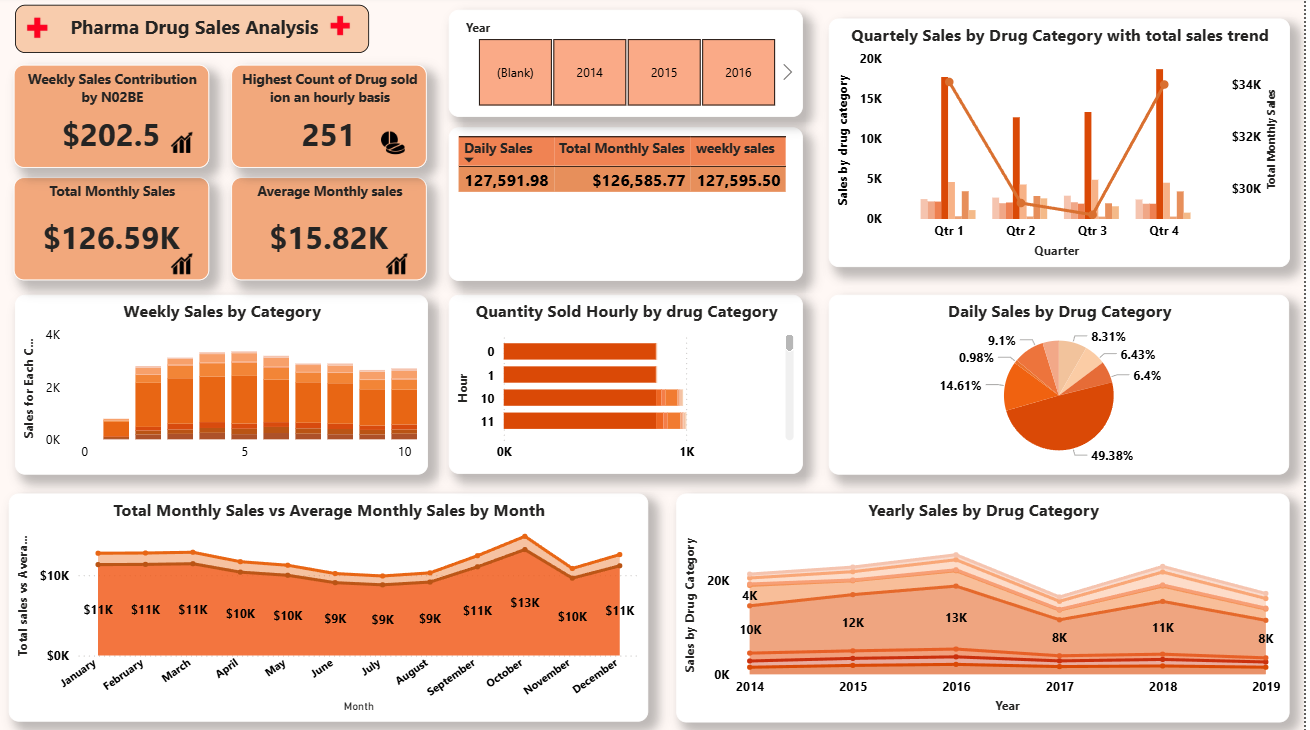

What the dashboard file says about the page in this screenshot:
{"tool":"powerbi","page":{"name":"Dashboard","canvas":[1280,720],"ordinal":0},"visuals":[{"type":"textbox","box":[19.2,9,346.2,47.4],"z":0},{"type":"columnChart","title":"Weekly Sales by Category","fields":{"Category":["Sales Weekly.Week Num"],"Y":["Sum(Sales Weekly.M01AB)","Sum(Sales Weekly.M01AE)","Sum(Sales Weekly.N02BA)","Sum(Sales Weekly.N02BE)","Sum(Sales Weekly.N05B)","Sum(Sales Weekly.N05C)","Sum(Sales Weekly.R03)","Sum(Sales Weekly.R06)"]},"box":[19.2,292.3,403.8,175.6],"z":1000},{"type":"stackedAreaChart","title":"Total Monthly Sales vs Average Monthly Sales by Month","fields":{"Category":["Sales Monthly.Date.Variation.Date Hierarchy.Month"],"Y":["Sales Monthly.Total Monthly Sales","Sales Monthly.Average Monthly Sales"]},"box":[13.7,486.3,625.5,223.5],"z":2000},{"type":"barChart","title":"Quantity Sold Hourly by drug Category","fields":{"Category":["Sales Hourly.Hour"],"Y":["CountNonNull(Sales Hourly.M01AB)","Count(Sales Hourly.M01AE)","Count(Sales Hourly.N02BA)","Count(Sales Hourly.N02BE)","Count(Sales Hourly.N05B)","Count(Sales Hourly.N05C)","Count(Sales Hourly.R03)","Count(Sales Hourly.R06)"]},"box":[443.3,292.2,346.7,175.6],"z":3000},{"type":"pieChart","title":"Daily Sales by Drug Category","fields":{"Y":["Sum(Sales Daily.M01AB)","Sum(Sales Daily.M01AE)","Sum(Sales Daily.N02BA)","Sum(Sales Daily.N02BE)","Sum(Sales Daily.N05B)","Sum(Sales Daily.N05C)","Sum(Sales Daily.R03)","Sum(Sales Daily.R06)"]},"box":[815.7,292.8,450.6,175.9],"z":4000},{"type":"stackedAreaChart","title":"Yearly Sales by Drug Category","fields":{"Category":["Sales Monthly.Date.Variation.Date Hierarchy.Year"],"Y":["Sum(Sales Monthly.M01AB)","Sum(Sales Monthly.M01AE)","Sum(Sales Monthly.N02BA)","Sum(Sales Monthly.N02BE)","Sum(Sales Monthly.N05B)","Sum(Sales Monthly.N05C)","Sum(Sales Monthly.R03)","Sum(Sales Monthly.R06)"]},"box":[666.3,486.7,600,224.1],"z":5000},{"type":"lineClusteredColumnComboChart","title":"Quartely Sales by Drug Category with total sales trend","fields":{"Category":["Sales Monthly.Date.Variation.Date Hierarchy.Quarter"],"Y":["Sum(Sales Monthly.M01AB)","Sum(Sales Monthly.M01AE)","Sum(Sales Monthly.N02BA)","Sum(Sales Monthly.N02BE)","Sum(Sales Monthly.N05B)","Sum(Sales Monthly.N05C)","Sum(Sales Monthly.R03)","Sum(Sales Monthly.R06)"],"Y2":["Sales Monthly.Total Monthly Sales"]},"box":[815.6,22.2,451.1,243.3],"z":6000},{"type":"card","title":"Total Monthly Sales","fields":{"Values":["Sales Monthly.Total Monthly Sales"]},"box":[18.9,177.8,191.1,101.1],"z":7000},{"type":"card","title":"Average Monthly sales","fields":{"Values":["Sales Monthly.Average Monthly Sales"]},"box":[231.1,177.8,191.1,101.1],"z":8000},{"type":"card","title":"Highest Count of Drug sold ion an hourly basis","fields":{"Values":["Count(Sales Hourly.N02BE)"]},"box":[231.1,66.7,191.1,101.1],"z":9000},{"type":"card","title":"Weekly Sales Contribution by N02BE","fields":{"Values":["Sales Weekly.weekly sales contribution by N02BE"]},"box":[18.9,66.7,191.1,101.1],"z":10000},{"type":"tableEx","fields":{"Values":["Sales Daily.Daily Sales","Sales Monthly.Total Monthly Sales","Sales Weekly.weekly sales"]},"box":[443.3,128.9,346.7,150],"z":11000},{"type":"slicer","fields":{"Values":["Sales Monthly.Date.Variation.Date Hierarchy.Year"]},"box":[443.3,13.3,346.7,104.4],"z":12000},{"type":"image","box":[365.6,127.8,47.8,33.3],"z":13000},{"type":"image","box":[162.2,127.8,40,33.3],"z":14000},{"type":"image","box":[162.2,245.6,40,33.3],"z":15000},{"type":"image","box":[373.3,245.6,40,33.3],"z":16000},{"type":"image","box":[310.8,8.4,53.8,42],"z":17000},{"type":"image","box":[18.5,10.1,47,43.7],"z":18000}]}

Visuals, with their boxes in screenshot pixels (x1, y1, x2, y2), scaled from the page's 1280x720 canvas onto the 1310x730 screenshot:
textbox: {"left": 20, "top": 9, "right": 374, "bottom": 57}
"Weekly Sales by Category" columnChart: {"left": 20, "top": 296, "right": 433, "bottom": 474}
"Total Monthly Sales vs Average Monthly Sales by Month" stackedAreaChart: {"left": 14, "top": 493, "right": 654, "bottom": 720}
"Quantity Sold Hourly by drug Category" barChart: {"left": 454, "top": 296, "right": 809, "bottom": 474}
"Daily Sales by Drug Category" pieChart: {"left": 835, "top": 297, "right": 1296, "bottom": 475}
"Yearly Sales by Drug Category" stackedAreaChart: {"left": 682, "top": 493, "right": 1296, "bottom": 721}
"Quartely Sales by Drug Category with total sales trend" lineClusteredColumnComboChart: {"left": 835, "top": 23, "right": 1296, "bottom": 269}
"Total Monthly Sales" card: {"left": 19, "top": 180, "right": 215, "bottom": 283}
"Average Monthly sales" card: {"left": 237, "top": 180, "right": 432, "bottom": 283}
"Highest Count of Drug sold ion an hourly basis" card: {"left": 237, "top": 68, "right": 432, "bottom": 170}
"Weekly Sales Contribution by N02BE" card: {"left": 19, "top": 68, "right": 215, "bottom": 170}
tableEx - Sales Daily.Daily Sales x Sales Monthly.Total Monthly Sales: {"left": 454, "top": 131, "right": 809, "bottom": 283}
slicer - Sales Monthly.Date.Variation.Date Hierarchy.Year: {"left": 454, "top": 13, "right": 809, "bottom": 119}
image: {"left": 374, "top": 130, "right": 423, "bottom": 163}
image: {"left": 166, "top": 130, "right": 207, "bottom": 163}
image: {"left": 166, "top": 249, "right": 207, "bottom": 283}
image: {"left": 382, "top": 249, "right": 423, "bottom": 283}
image: {"left": 318, "top": 9, "right": 373, "bottom": 51}
image: {"left": 19, "top": 10, "right": 67, "bottom": 55}
